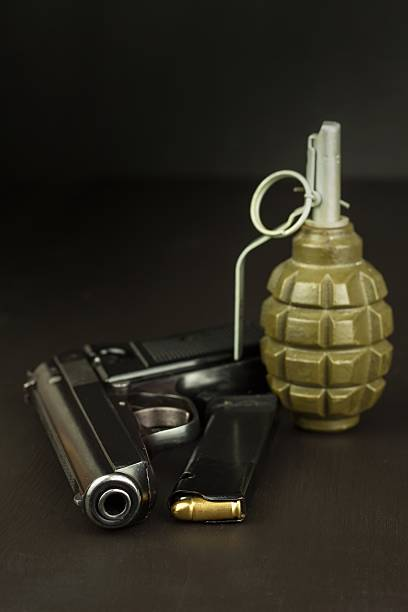e1: (227, 118, 394, 433)
